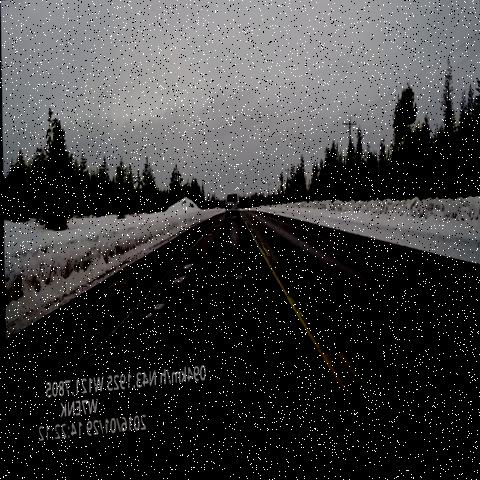pothole: (162, 250, 208, 297), (223, 260, 253, 303), (134, 299, 171, 328), (207, 227, 218, 245), (217, 219, 228, 236)
